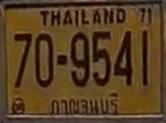0: (34, 33, 53, 86)
1: (142, 30, 148, 87)
4: (113, 30, 131, 85)
5: (92, 31, 111, 86)
7: (13, 33, 31, 86)
9: (70, 32, 89, 86)
KRI: (48, 92, 124, 118)
